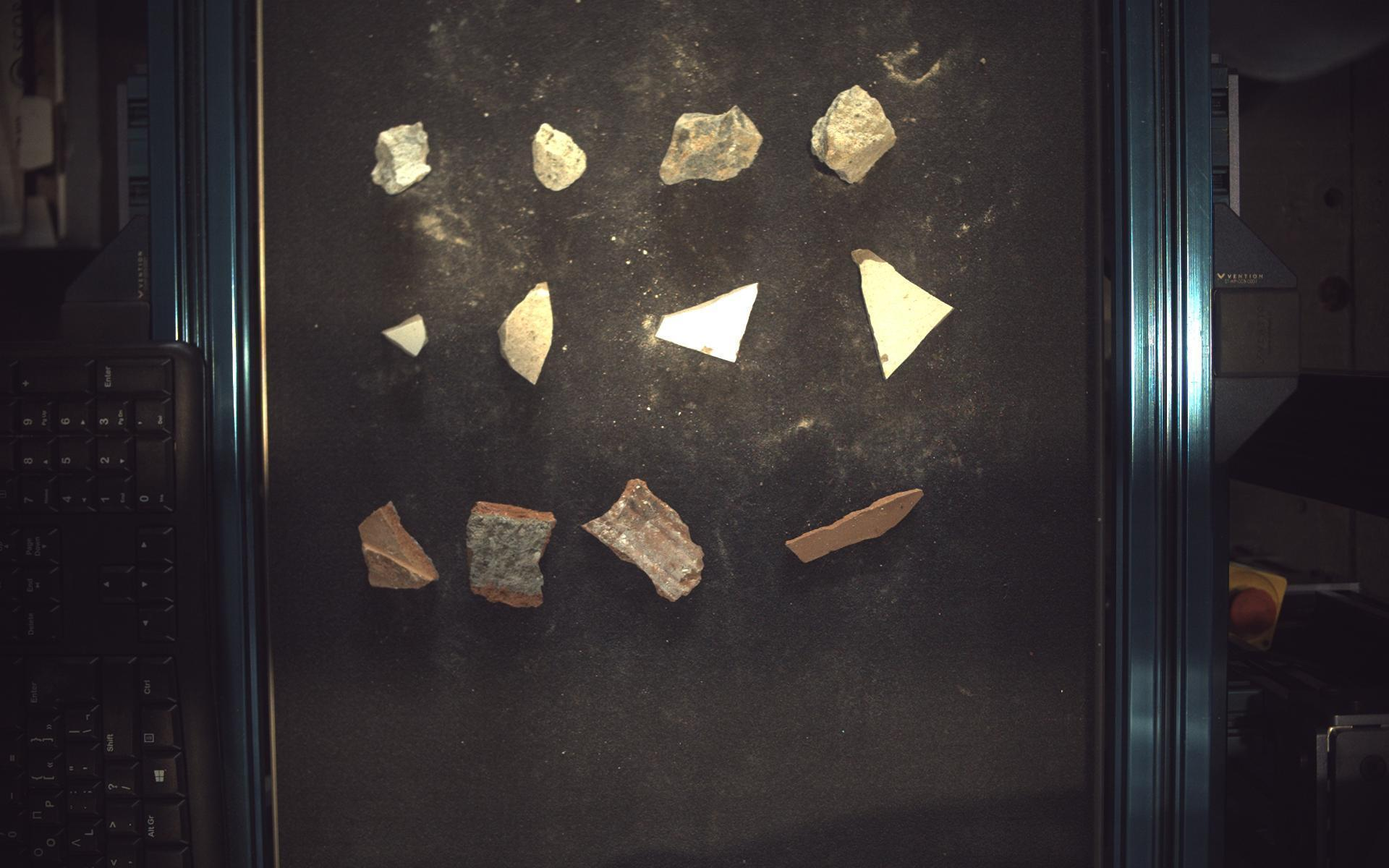brick: (583, 480, 705, 602), (787, 489, 925, 563), (467, 502, 556, 608), (358, 503, 438, 590)
concrete: (812, 84, 898, 182), (660, 104, 764, 184), (371, 121, 431, 194), (533, 122, 587, 190)
tile: (854, 248, 954, 378), (657, 283, 759, 362), (499, 281, 553, 384), (382, 314, 428, 357)
